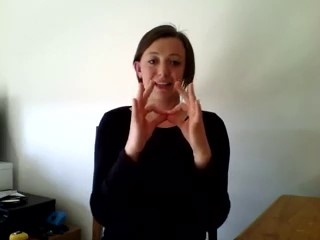B: (120, 77, 210, 149)
